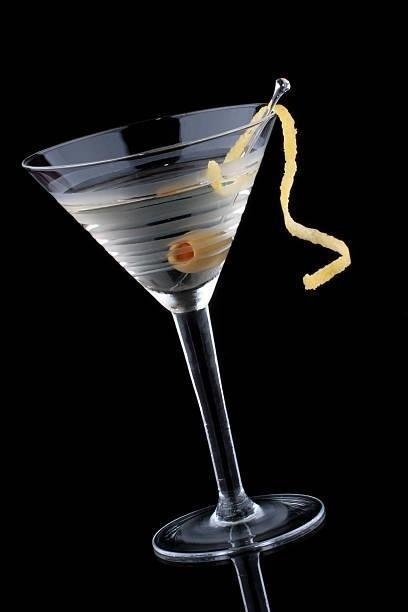glass-wine: (21, 99, 332, 564)
